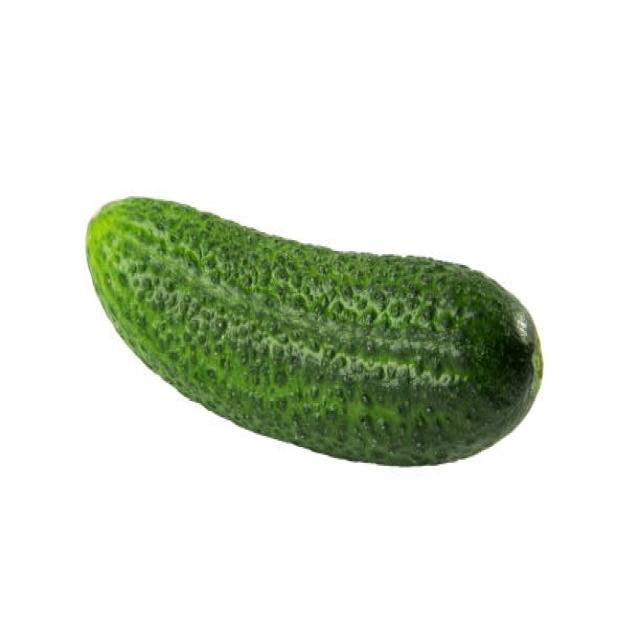cucumber: (85, 193, 542, 468)
